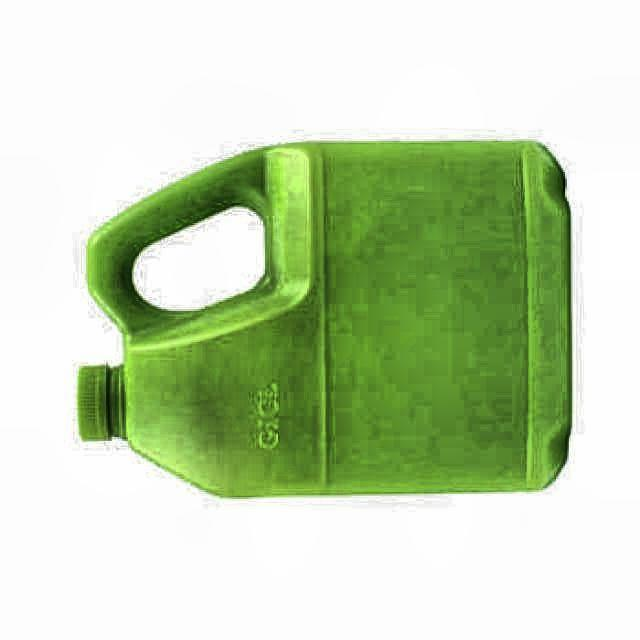plastic: (78, 141, 571, 496)
